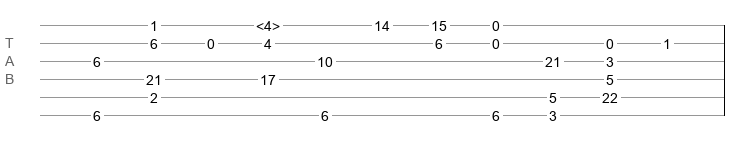0: (207, 36, 215, 46), (492, 36, 500, 46), (492, 18, 500, 28), (606, 36, 614, 46)
1: (150, 18, 158, 28), (663, 36, 671, 46)
10: (317, 54, 333, 64)
14: (374, 18, 390, 28)
15: (431, 18, 447, 28)
17: (260, 72, 276, 82)
2: (150, 90, 158, 100)
21: (146, 72, 162, 82), (545, 54, 561, 64)
22: (602, 90, 618, 100)
3: (549, 108, 557, 118), (606, 54, 614, 64)
4: (264, 36, 272, 46)
5: (549, 90, 557, 100), (606, 72, 614, 82)
6: (93, 108, 101, 118), (93, 54, 101, 64), (150, 36, 158, 46), (321, 108, 329, 118), (435, 36, 443, 46), (492, 108, 500, 118)
harmonic: (256, 18, 280, 28)
